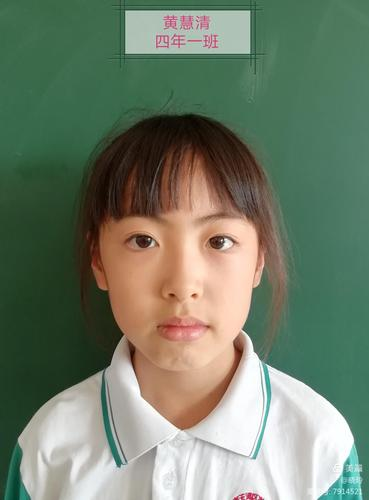no_mask: (88, 143, 271, 376)
